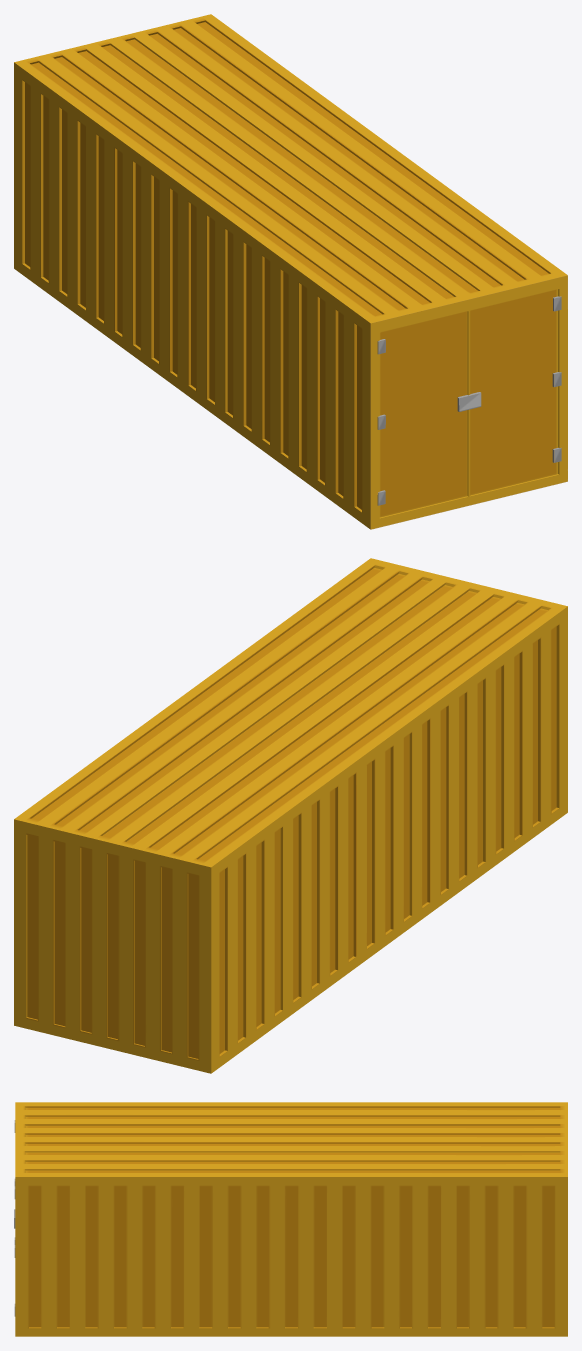
File: zuti kontejner.fbx
The picture shows the model from 3 angles, top to bottom: view 1: azimuth 30°, elevation 25°; view 2: azimuth 150°, elevation 25°; view 3: azimuth 270°, elevation 25°; orthographic projection. The views are drawn at different scales.
Parts seen in each view (by area): view 1: Cube.004; view 2: Cube.004; view 3: Cube.004.
Part boxes in pixels (<box>): Cube.004: <box>14,14,567,529</box>; Cube.004: <box>14,558,567,1073</box>; Cube.004: <box>14,1102,567,1336</box>.
Size of the model in its own units: 229 by 229 by 720.
1 material, 1 textured.
